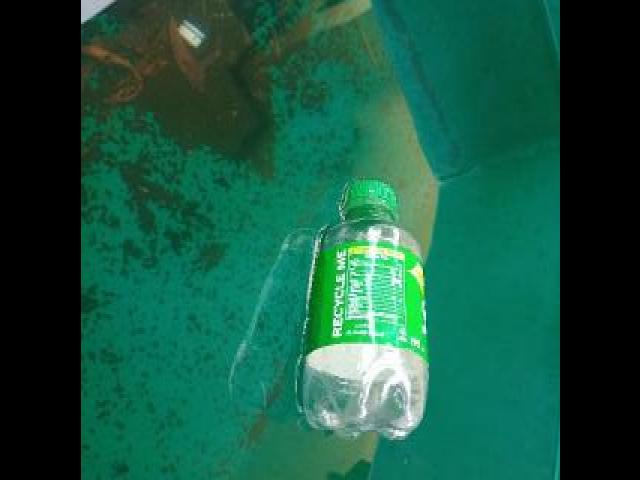Bottle: (295, 171, 435, 452)
